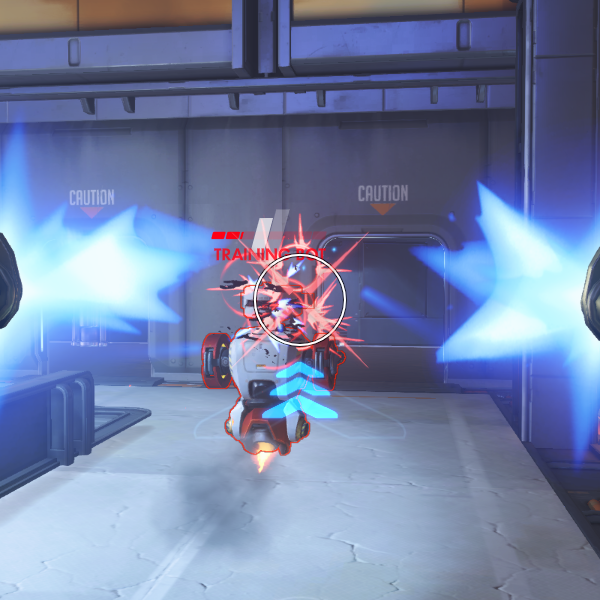hpbar: (211, 231, 327, 240)
